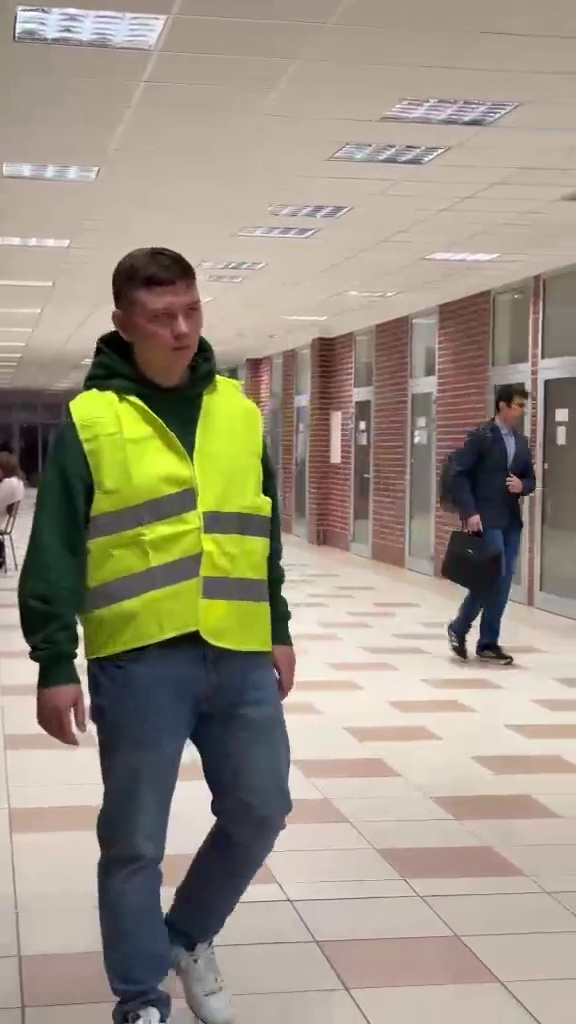no vest: (435, 382, 536, 680)
vest: (26, 243, 301, 1021)
